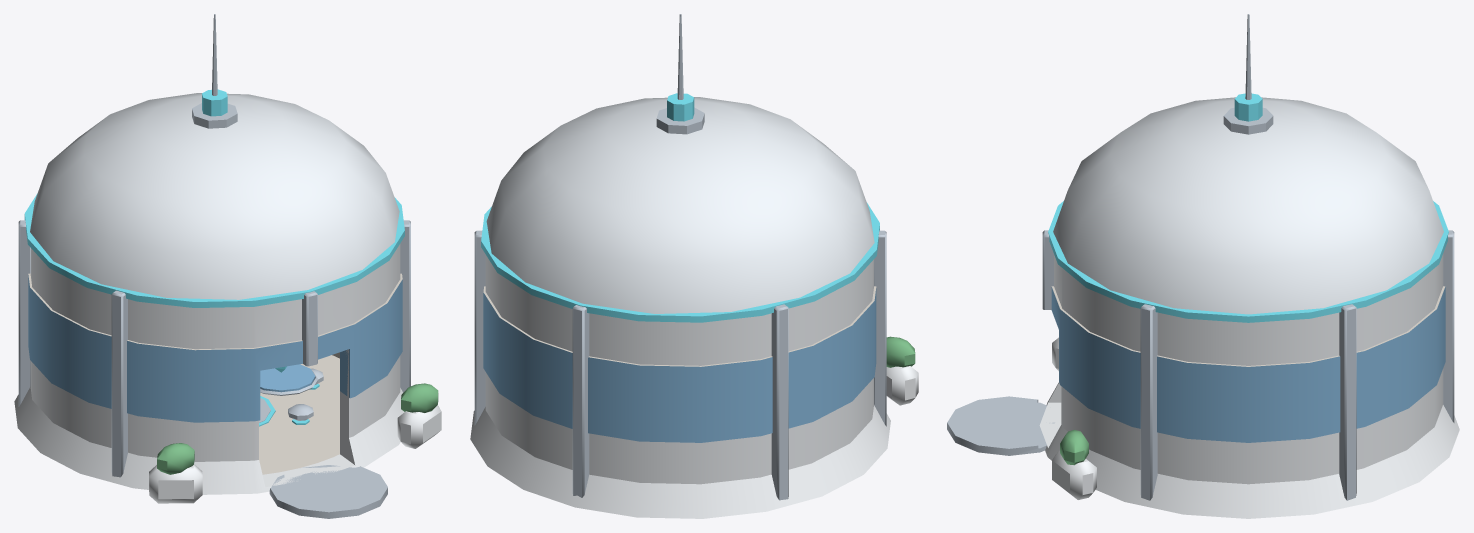
Rendered from TalasaCasa.fbx.
3 views of the same model, side by side, from view 1: azimuth 30°, elevation 25°; view 2: azimuth 150°, elevation 25°; view 3: azimuth 270°, elevation 25° (orthographic). The views are drawn at different scales.
Visible parts, largest first — view 1: TalasaCasa_Base_Techo, TalasaCasa_Base_Cuerpo, TalasaCasa_Base_Cristal, TalasaCasa_Base_Metal, TalasaCasa_Base_Forro, TalasaCasa_Base_Luz, TalasaCasa_Base_Hoja; view 2: TalasaCasa_Base_Techo, TalasaCasa_Base_Cuerpo, TalasaCasa_Base_Cristal, TalasaCasa_Base_Metal, TalasaCasa_Base_Luz, TalasaCasa_Base_Forro, TalasaCasa_Base_Hoja; view 3: TalasaCasa_Base_Techo, TalasaCasa_Base_Cuerpo, TalasaCasa_Base_Cristal, TalasaCasa_Base_Metal, TalasaCasa_Base_Luz, TalasaCasa_Base_Forro, TalasaCasa_Base_Hoja.
Boxes of the visible parts, left/top/right/bottom form: TalasaCasa_Base_Techo: left=30, top=93, right=399, bottom=299; TalasaCasa_Base_Cuerpo: left=14, top=244, right=441, bottom=503; TalasaCasa_Base_Cristal: left=28, top=275, right=402, bottom=422; TalasaCasa_Base_Metal: left=18, top=14, right=410, bottom=518; TalasaCasa_Base_Forro: left=28, top=273, right=402, bottom=474; TalasaCasa_Base_Luz: left=24, top=89, right=404, bottom=426; TalasaCasa_Base_Hoja: left=157, top=383, right=438, bottom=474; TalasaCasa_Base_Techo: left=486, top=97, right=874, bottom=313; TalasaCasa_Base_Cuerpo: left=470, top=255, right=918, bottom=518; TalasaCasa_Base_Cristal: left=483, top=288, right=876, bottom=442; TalasaCasa_Base_Metal: left=474, top=14, right=886, bottom=500; TalasaCasa_Base_Luz: left=481, top=93, right=879, bottom=322; TalasaCasa_Base_Forro: left=483, top=286, right=876, bottom=366; TalasaCasa_Base_Hoja: left=886, top=336, right=915, bottom=367; TalasaCasa_Base_Techo: left=1053, top=97, right=1443, bottom=314; TalasaCasa_Base_Cuerpo: left=1039, top=254, right=1459, bottom=518; TalasaCasa_Base_Cristal: left=1051, top=286, right=1445, bottom=442; TalasaCasa_Base_Metal: left=947, top=14, right=1454, bottom=500; TalasaCasa_Base_Luz: left=1048, top=93, right=1448, bottom=322; TalasaCasa_Base_Forro: left=1051, top=286, right=1445, bottom=366; TalasaCasa_Base_Hoja: left=1060, top=429, right=1088, bottom=465.
Size of the model in its own units: 2720 by 2950 by 3300.
